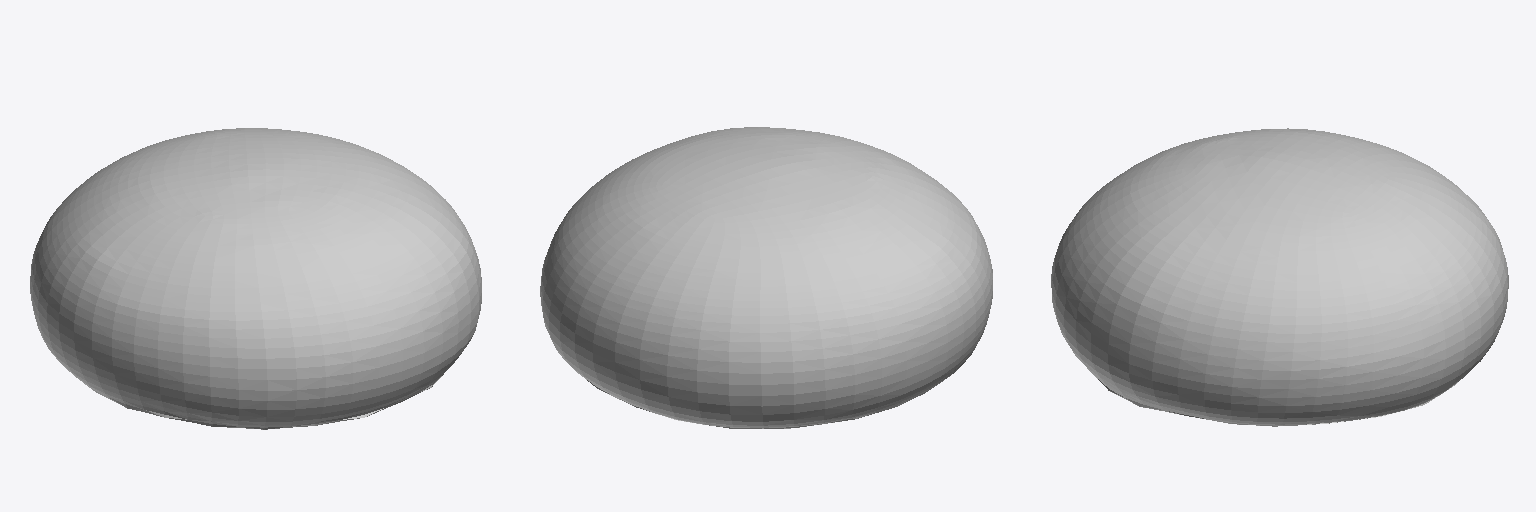
File: Parte de arriba.obj
The picture shows the model from 3 angles: view 1: azimuth 30°, elevation 25°; view 2: azimuth 150°, elevation 25°; view 3: azimuth 270°, elevation 25°; orthographic projection.
Parts seen in each view (by area): view 1: polySurface1 Burger:Mesh; view 2: polySurface1 Burger:Mesh; view 3: polySurface1 Burger:Mesh.
Boxes of the visible parts, box(x1,y1,x2,y2) form: polySurface1 Burger:Mesh: box(30, 128, 481, 429); polySurface1 Burger:Mesh: box(540, 127, 992, 428); polySurface1 Burger:Mesh: box(1051, 128, 1508, 426).
Size of the model in its own units: 3.34 by 1.48 by 3.37.